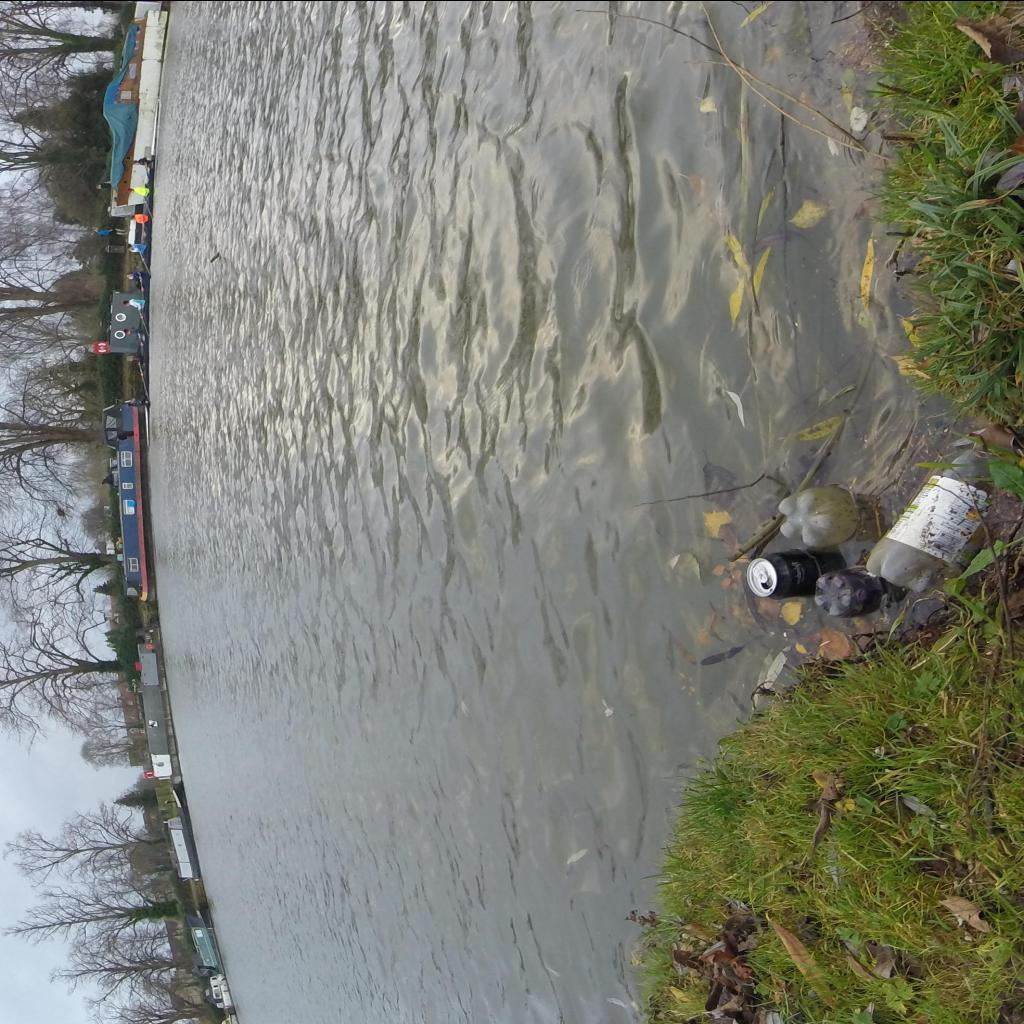Clear plastic bottle: (866, 444, 994, 598), (778, 484, 858, 546), (814, 566, 884, 618)
Drink can: (746, 548, 818, 598)
Pop tab: (752, 566, 768, 582)
